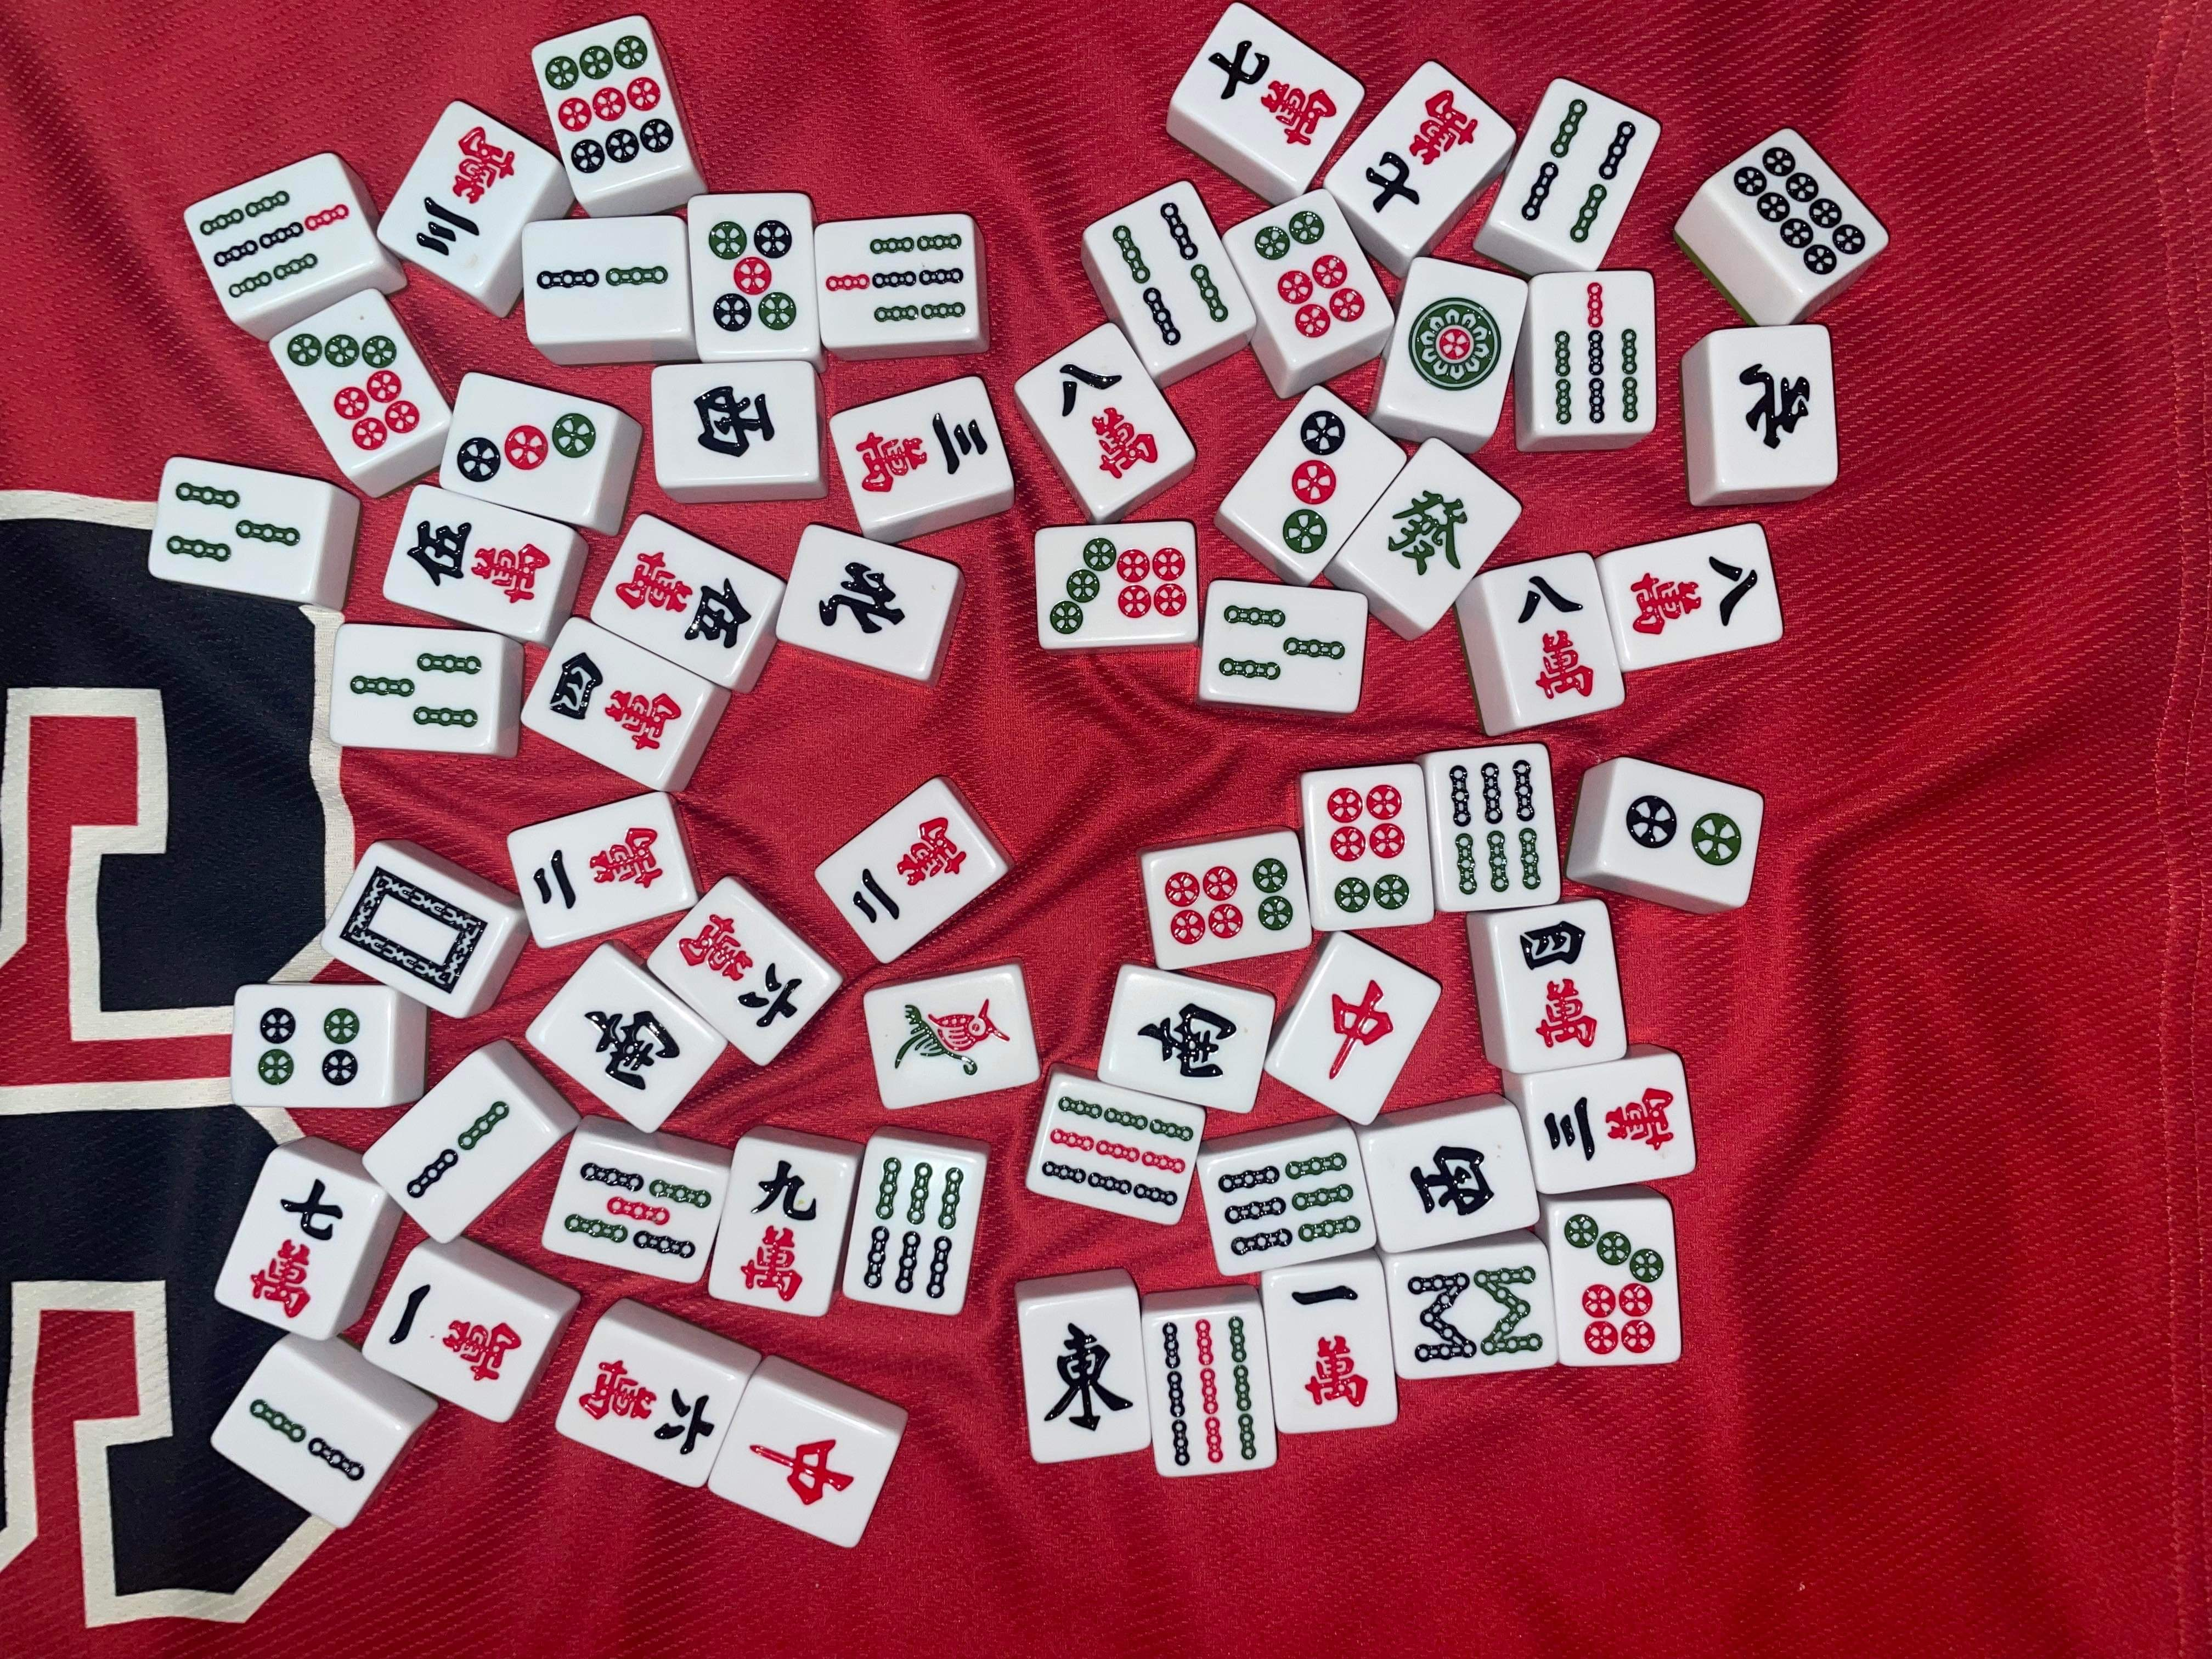b-1: (887, 997, 1015, 1079)
b-2: (244, 1391, 371, 1488), (402, 1100, 510, 1201), (535, 260, 671, 295)
b-3: (164, 476, 300, 572), (341, 643, 482, 734), (1216, 594, 1350, 688)
b-4: (1111, 200, 1237, 349), (1519, 94, 1637, 242)
b-5: (566, 1159, 712, 1263)
b-6: (1217, 1152, 1366, 1260), (862, 1154, 965, 1298), (1444, 756, 1548, 896)
b-7: (197, 186, 355, 300), (824, 228, 968, 326), (1550, 281, 1641, 429)
b-8: (1404, 1260, 1545, 1364)
b-9: (1038, 1094, 1197, 1209), (1158, 1319, 1261, 1467)
c-1: (383, 1281, 524, 1392), (1287, 1283, 1374, 1412)
c-2: (850, 814, 965, 925), (531, 824, 664, 911)
c-3: (413, 124, 521, 260), (853, 411, 991, 495), (1541, 1086, 1676, 1162)
c-4: (549, 650, 685, 753), (1515, 917, 1604, 1054)
c-5: (613, 547, 752, 650), (402, 518, 556, 606)
c-6: (674, 908, 805, 1028), (578, 1358, 719, 1459)
c-7: (1360, 89, 1482, 214), (1207, 35, 1341, 148), (246, 1176, 347, 1319)
c-8: (1045, 357, 1162, 479), (1623, 554, 1766, 638), (1514, 573, 1595, 704)
c-9: (737, 1159, 824, 1304)
d-1: (1402, 295, 1505, 392)
d-2: (1622, 786, 1747, 878)
d-3: (455, 411, 601, 486), (1280, 410, 1350, 558)
d-4: (251, 1002, 364, 1089)
d-5: (704, 213, 801, 333)
d-6: (1251, 211, 1367, 342), (1162, 856, 1298, 946), (1324, 781, 1413, 917)
d-7: (286, 331, 421, 451), (1562, 1209, 1667, 1358), (1049, 538, 1190, 640)
d-8: (1731, 145, 1869, 279)
d-9: (540, 33, 678, 176)
honors-east: (1038, 1316, 1137, 1436)
honors-green: (1379, 486, 1474, 579)
honors-north: (813, 558, 907, 638), (1735, 361, 1815, 455)
honors-red: (745, 1424, 855, 1509), (1324, 974, 1393, 1082)
honors-south: (573, 997, 685, 1096), (1137, 1000, 1240, 1084)
honors-west: (681, 380, 787, 462), (1406, 1141, 1500, 1222)
honors-white: (331, 863, 493, 997)
